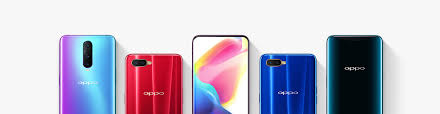oppo: (56, 30, 120, 114), (190, 30, 254, 114), (323, 30, 387, 114), (122, 47, 182, 114), (258, 51, 318, 114)
